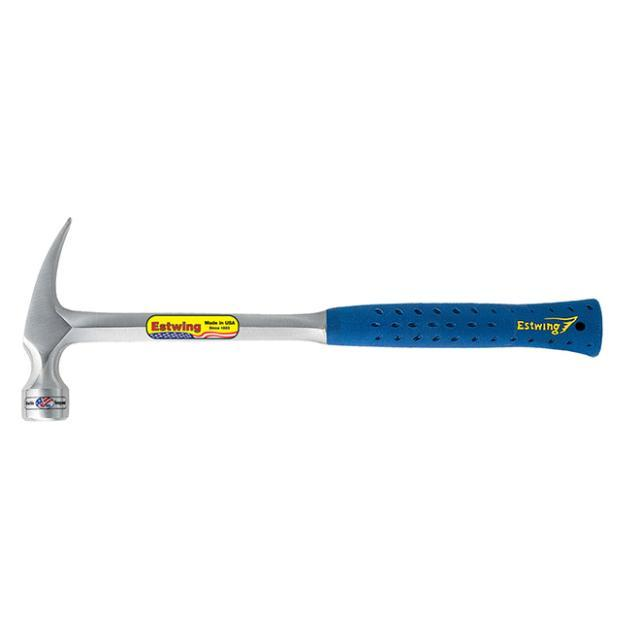hammer: (8, 188, 616, 432)
